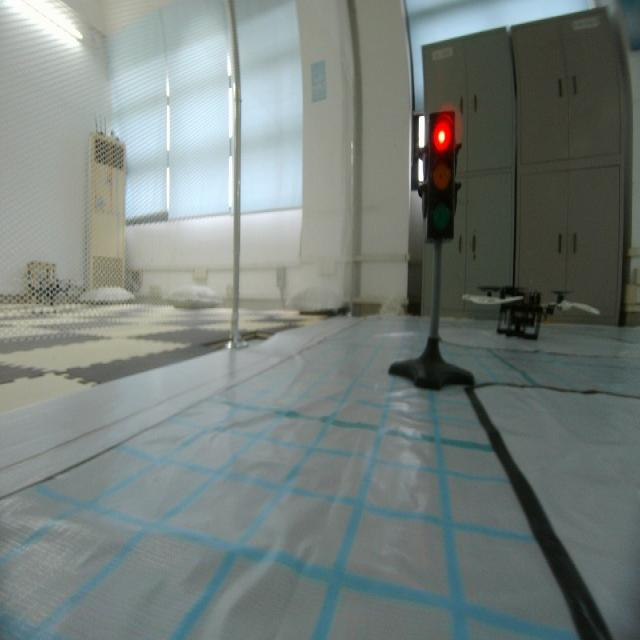red: (425, 110, 461, 252)
